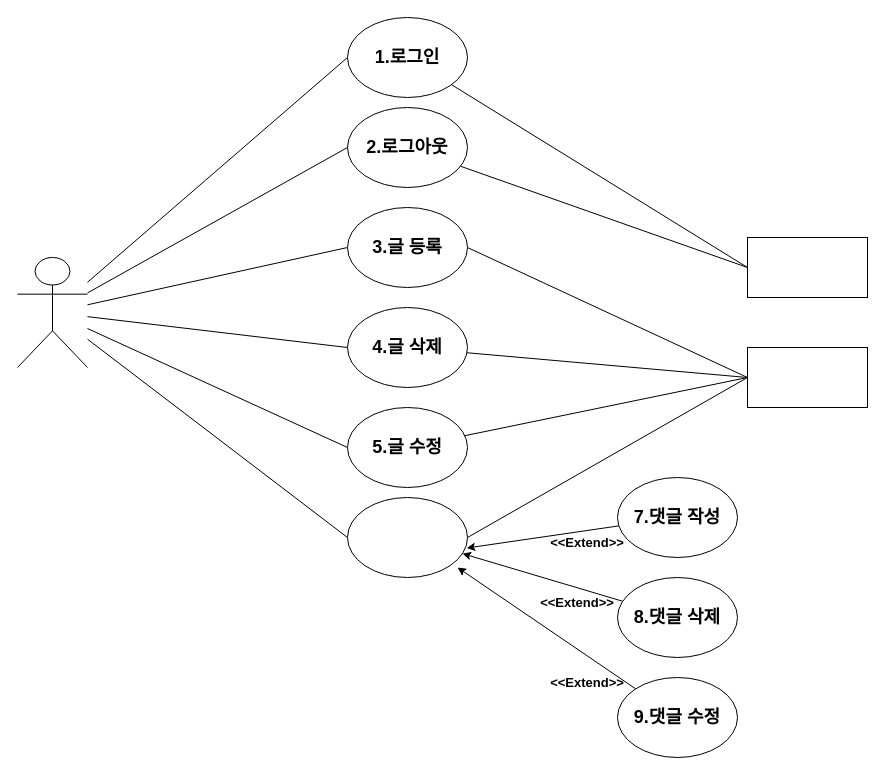
Image size: 885x775. Some labels were removed from this diagram. Each missing label, with the box of its shape:
6.글 조회: (346, 496, 468, 578)
DB 시스템: (746, 346, 868, 408)
로그인 시스템: (746, 236, 868, 298)
사용자: (16, 256, 88, 368)
